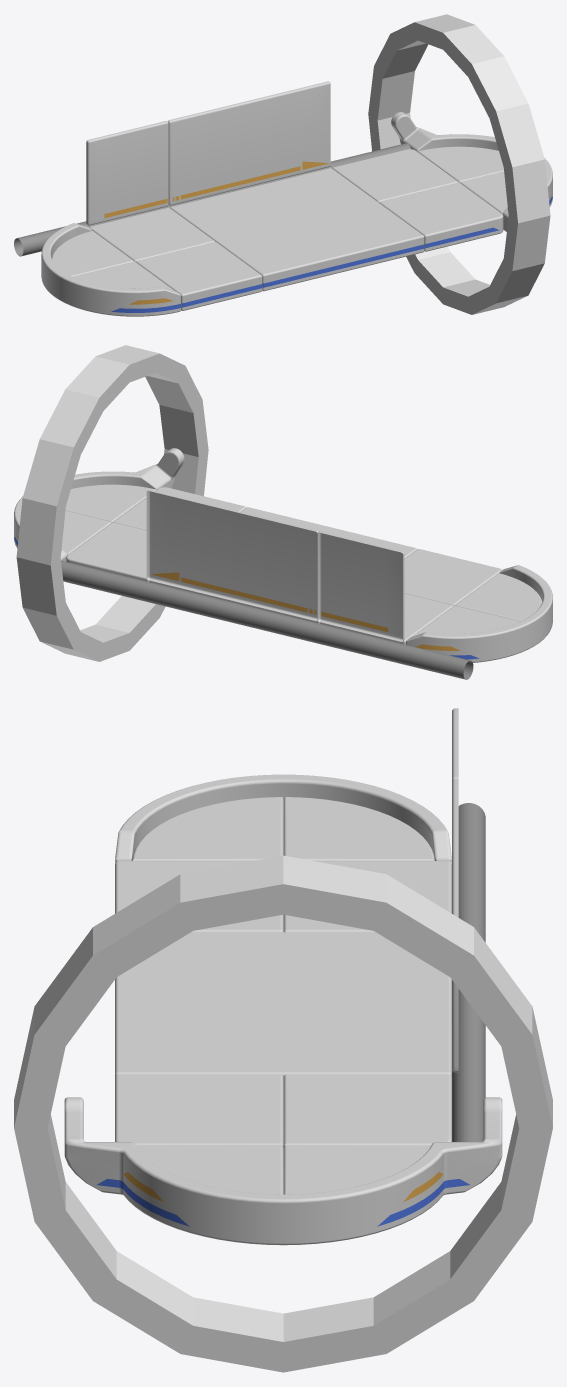
The model's file is lab_teleport.fbx.
3 renders of one model, top to bottom at view 1: azimuth 30°, elevation 25°; view 2: azimuth 150°, elevation 25°; view 3: azimuth 270°, elevation 25°, orthographic. The views are drawn at different scales.
Visible parts, largest first — view 1: floor, frame, panel.001, panel.000, start_border, start_border.001, tube; view 2: frame, floor, panel.001, tube, panel.000, start_border, start_border.001; view 3: floor, frame, start_border.001, start_border, tube, panel.001.
Part boxes in pixels (box(x1,y1,x2,y2)): floor: box(51, 146, 507, 310); frame: box(368, 14, 550, 314); panel.001: box(167, 81, 330, 205); panel.000: box(86, 121, 168, 225); start_border: box(41, 223, 180, 316); start_border.001: box(391, 112, 552, 231); tube: box(14, 143, 410, 256); frame: box(16, 345, 208, 661); floor: box(61, 484, 542, 644); panel.001: box(146, 490, 318, 621); tube: box(61, 560, 473, 679); panel.000: box(317, 531, 404, 641); start_border: box(406, 565, 552, 662); start_border.001: box(14, 448, 184, 561); floor: box(115, 797, 451, 1194); frame: box(14, 855, 552, 1372); start_border.001: box(64, 1097, 502, 1245); start_border: box(115, 774, 451, 862); tube: box(452, 803, 485, 1141); panel.001: box(452, 779, 458, 1072).
Size of the model in its own units: 300 by 160 by 160.
